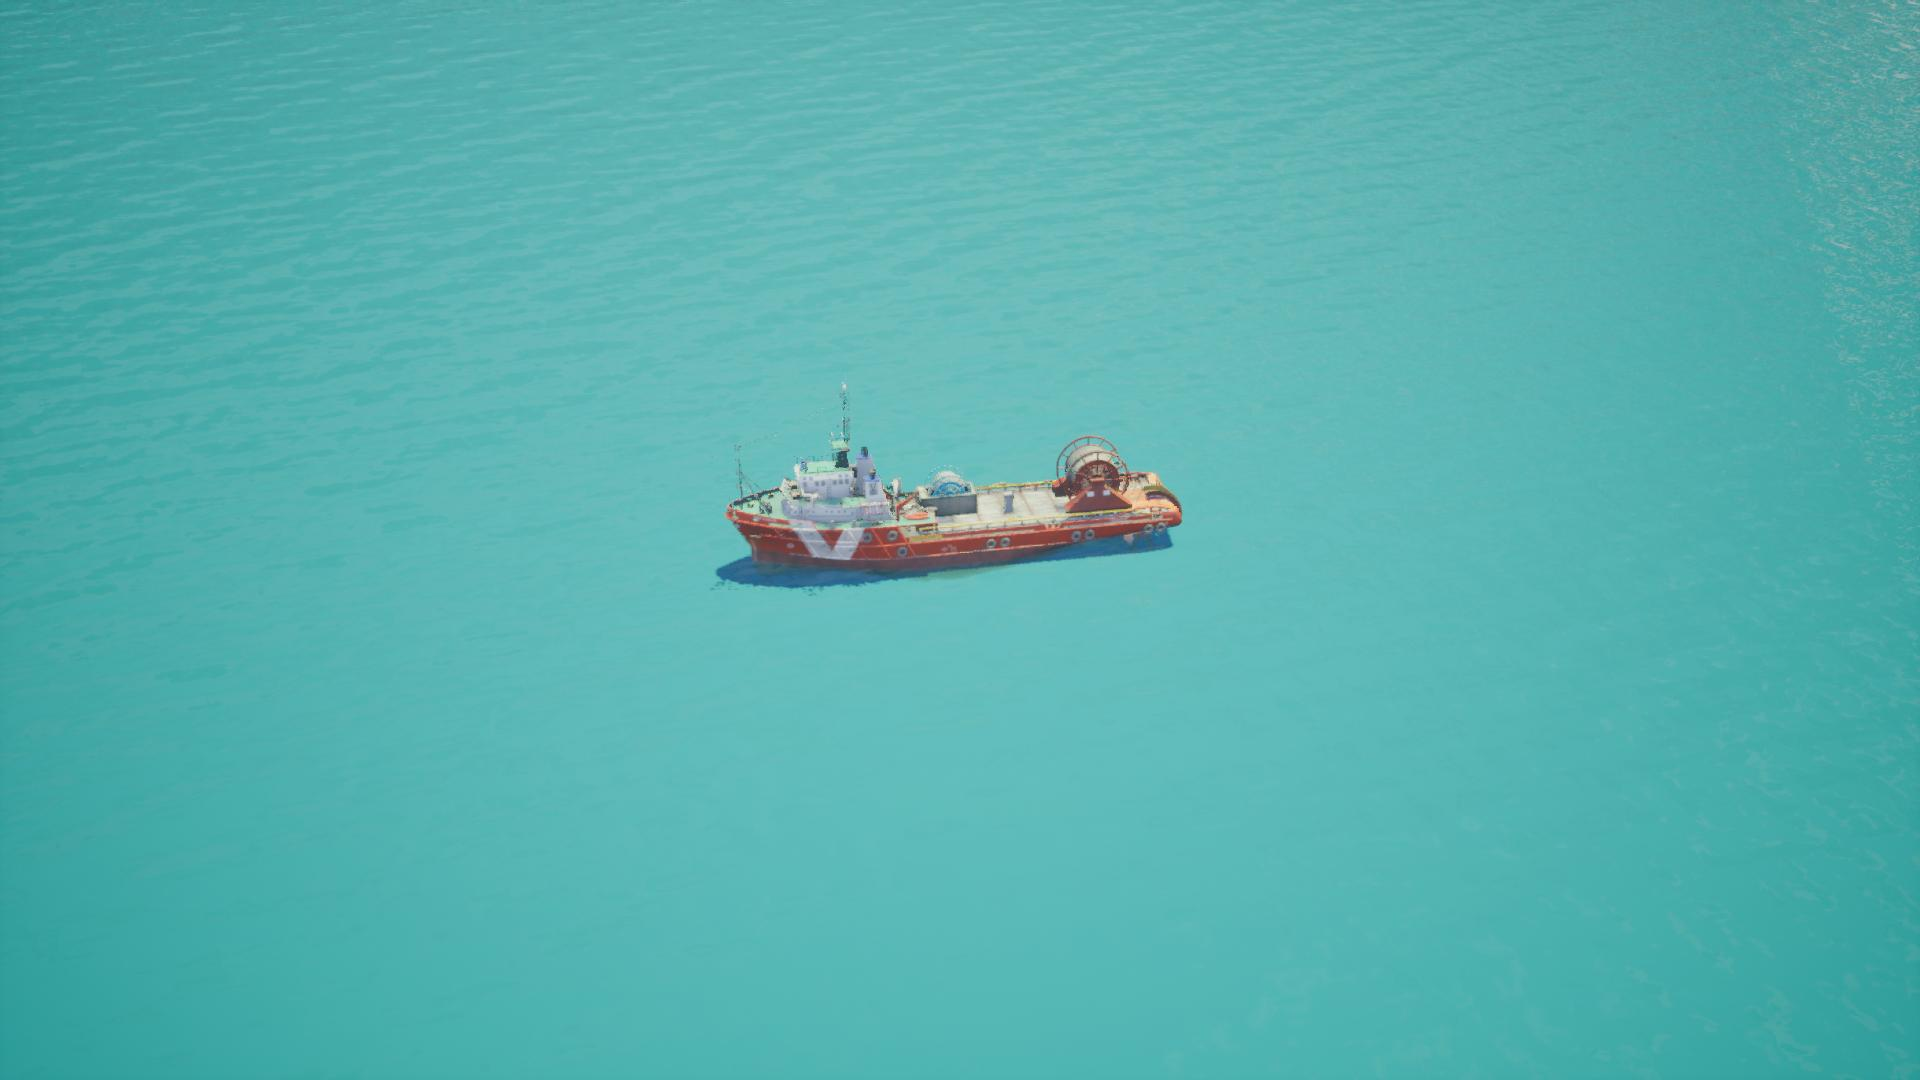Tug Boat: (667, 345, 1242, 640)
